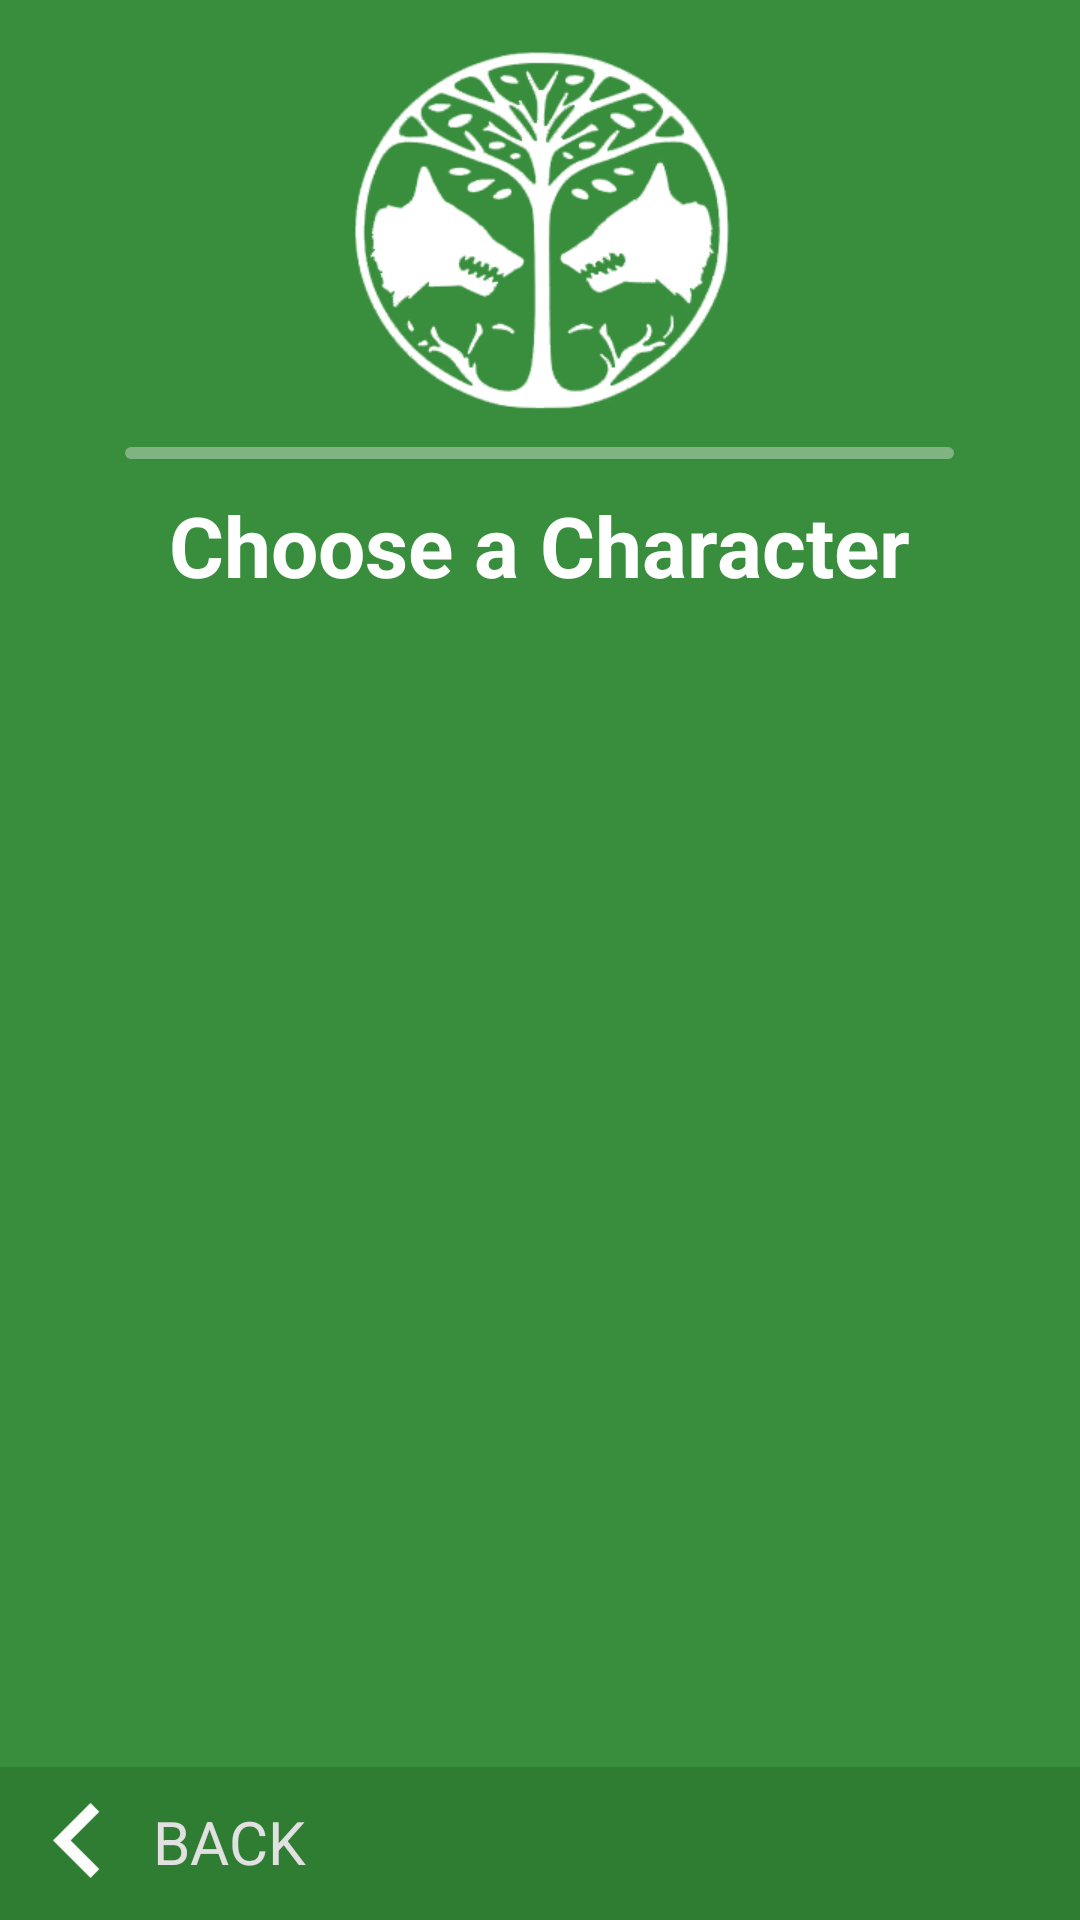

Where icons sit on this 1080*1920 app screen, as (x1, y1, x2, y2):
arrow left: (53, 1803, 99, 1878)
